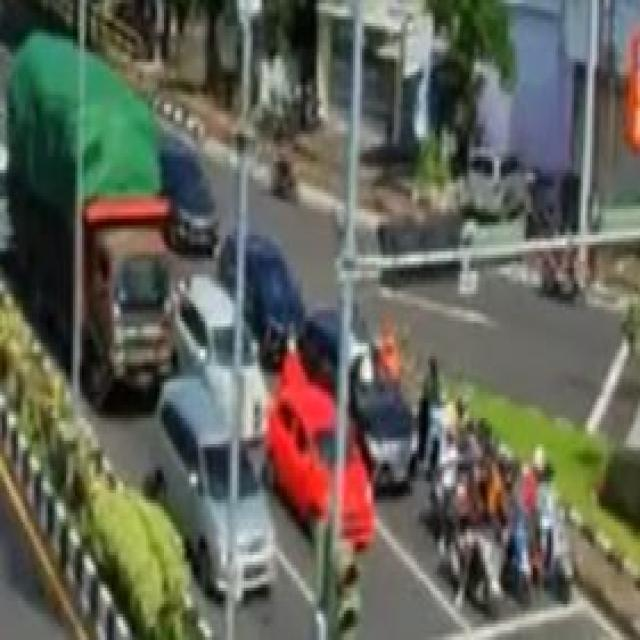car: (149, 377, 281, 601), (268, 374, 381, 552), (170, 273, 272, 444)
motorbike: (451, 518, 506, 622), (546, 505, 582, 614), (511, 508, 534, 618)
truck: (13, 29, 189, 420)
